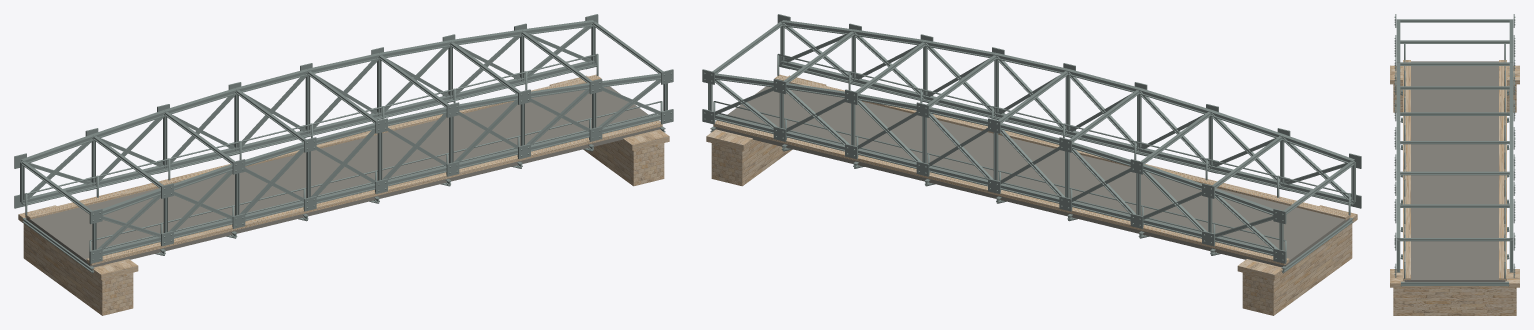
File: little_belt_span.gltf
3 renders of one model, left to right at view 1: azimuth 30°, elevation 25°; view 2: azimuth 150°, elevation 25°; view 3: azimuth 270°, elevation 25°, orthographic. The views are drawn at different scales.
Visible parts, largest first — view 1: little_belt_span; view 2: little_belt_span; view 3: little_belt_span.
Part boxes in pixels (x1,y1,x2,y2): little_belt_span: [14, 14, 673, 315]; little_belt_span: [702, 14, 1361, 315]; little_belt_span: [1390, 14, 1519, 315].
Bounding box in the file's own units: 1 × 0.207 × 0.246.
4 materials, 1 textured.
